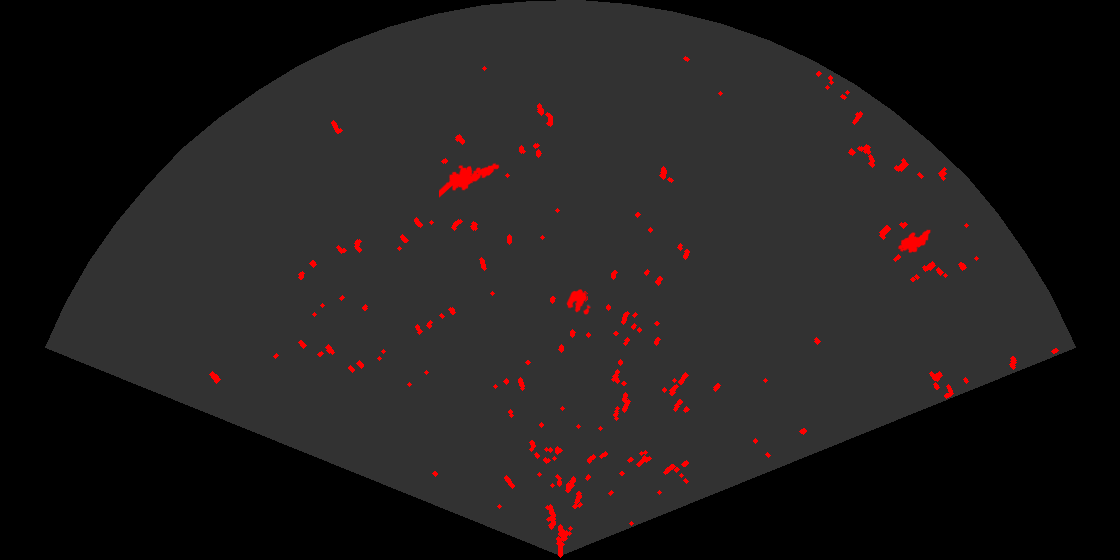AUV: (896, 228, 933, 255)
ball: (565, 287, 592, 316)
frogman: (439, 161, 501, 199)
